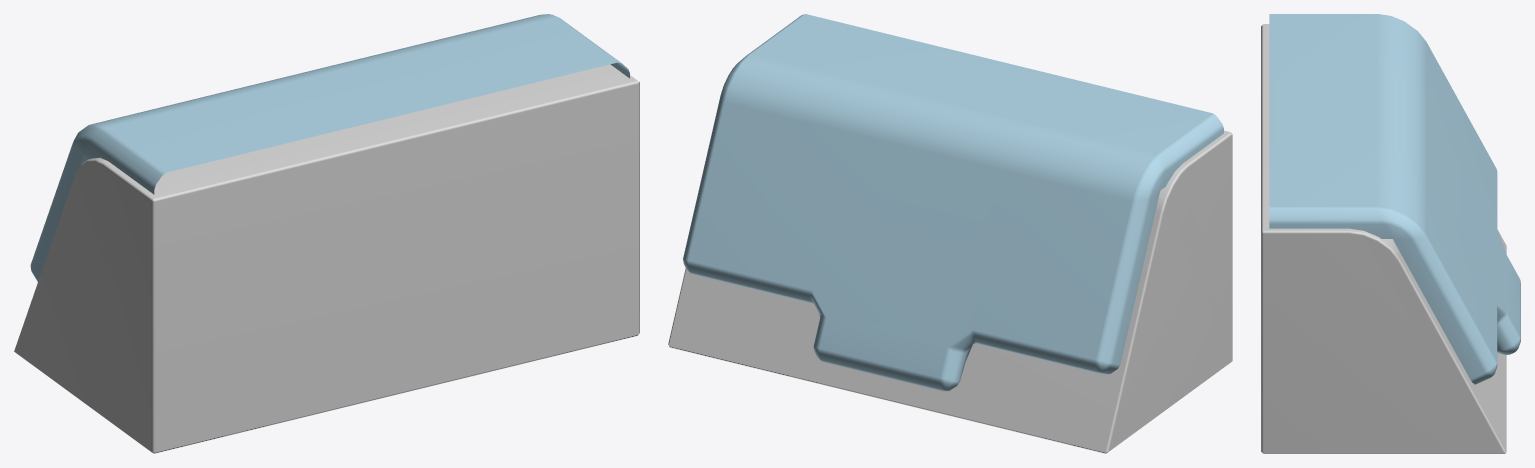
File: MESH_ENV_Wall_SleekWall1_1x2.fbx
3 views of the same model, side by side, from view 1: azimuth 30°, elevation 25°; view 2: azimuth 150°, elevation 25°; view 3: azimuth 270°, elevation 25° (orthographic). The views are drawn at different scales.
Visible parts, largest first — view 1: x2; view 2: x2; view 3: x2.
Boxes of the visible parts, box(x1,y1,x2,y2) form: x2: box(14, 14, 639, 453); x2: box(668, 14, 1232, 453); x2: box(1261, 14, 1520, 453).
Bounding box in the file's own units: 200 × 108 × 105.
